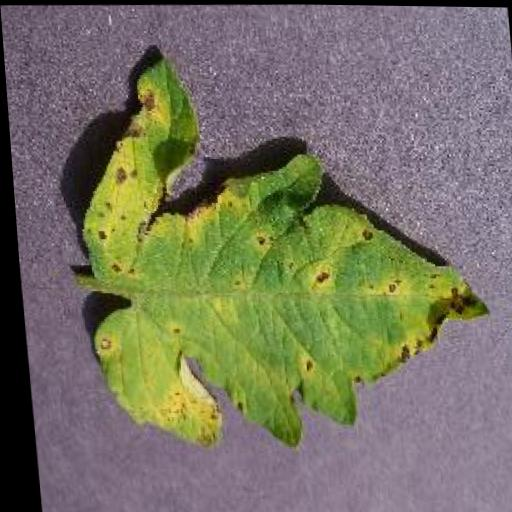Septoria: (62, 49, 498, 447)
